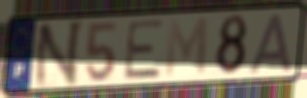5: (84, 19, 120, 84)
8: (212, 13, 248, 78)
A: (247, 12, 295, 76)
E: (121, 17, 167, 82)
M: (163, 15, 210, 80)
N: (31, 17, 86, 91)
